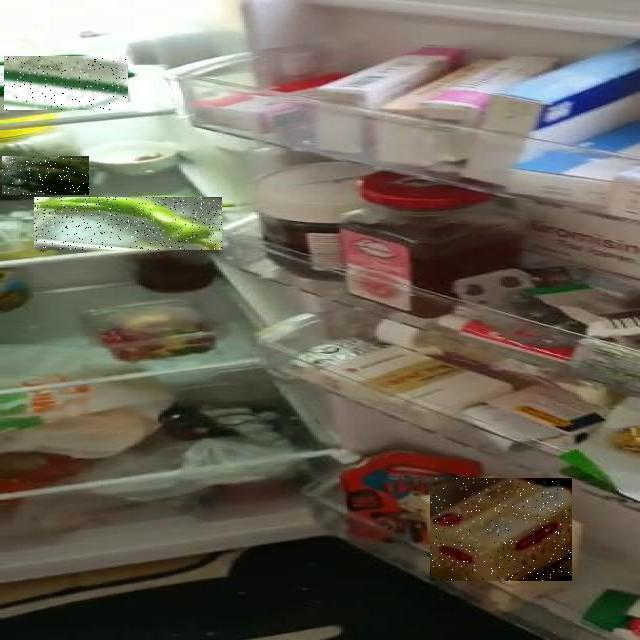Chillies: (34, 197, 222, 250)
Cream: (4, 56, 128, 110)
Milk: (430, 478, 572, 581)
Olives: (2, 156, 89, 195)
